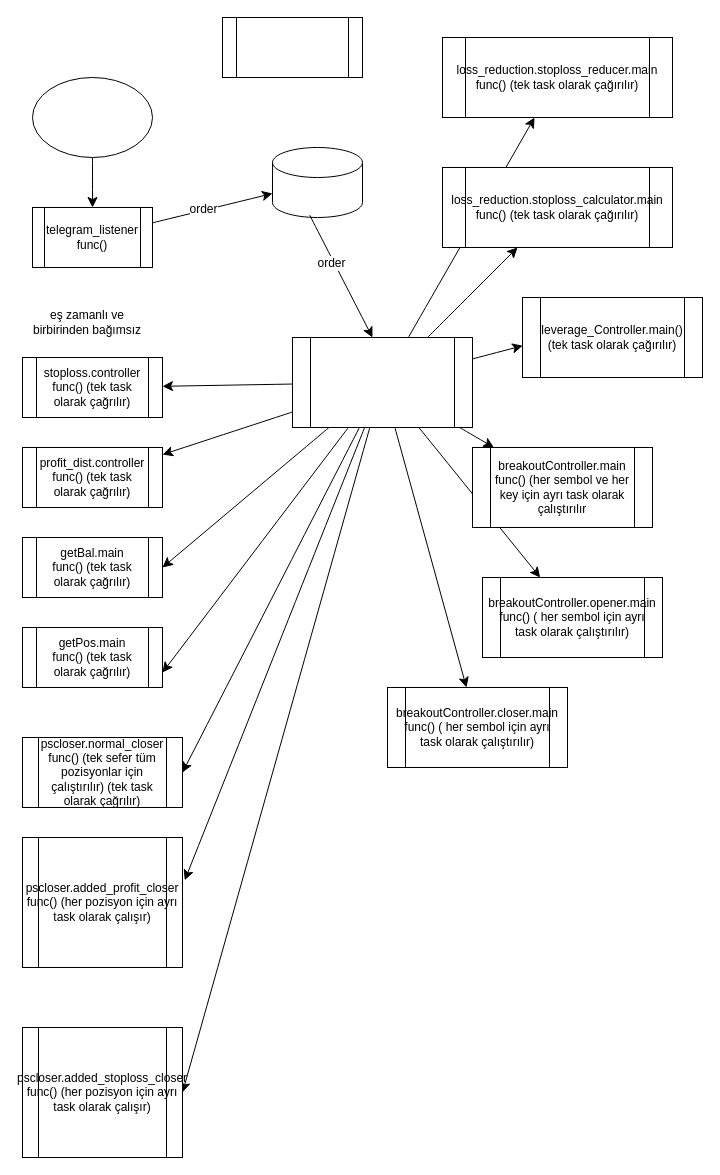
Some shapes in this 720 by 1175 pixel diagram are drawn without their labels. Each missing label, with the centre of its shape:
"asenkron_task_manager.main func()" goes at [382,382].
"başla" goes at [92,117].
"dataGetter.main func() (bağımsız çalışır.)" goes at [292,47].
"start_stop.db" goes at [317,182].
